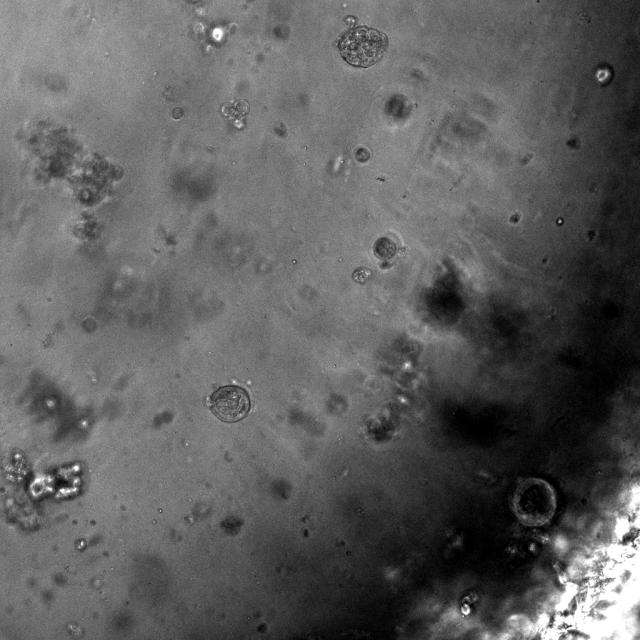organoid: (18, 119, 124, 241), (412, 257, 532, 364), (0, 447, 87, 532), (363, 334, 422, 443), (334, 15, 388, 68), (509, 478, 556, 525), (207, 386, 250, 421), (372, 235, 400, 270), (221, 99, 249, 130), (460, 590, 479, 617), (593, 62, 614, 86), (352, 266, 372, 284), (81, 316, 98, 337), (353, 146, 371, 163), (171, 106, 184, 120)
